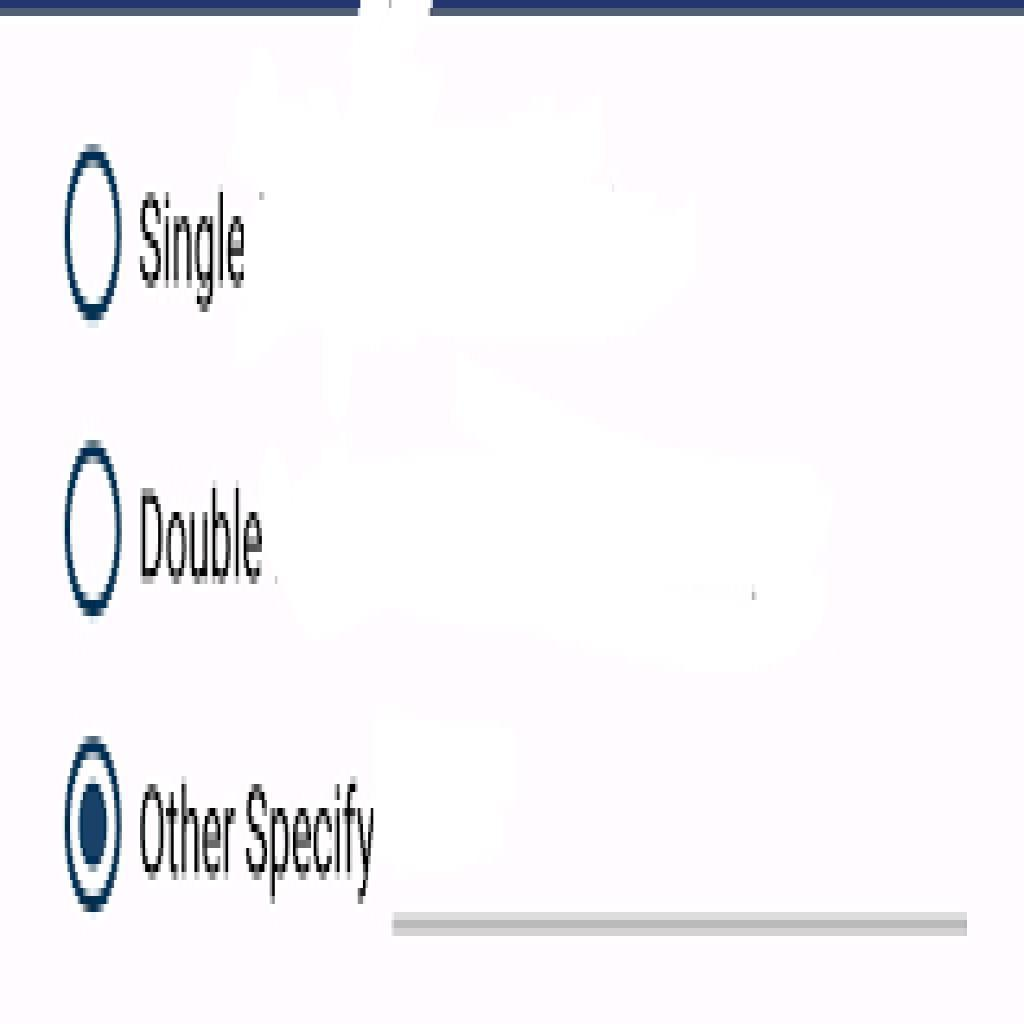label: (135, 775, 381, 906), (130, 185, 251, 312), (136, 476, 264, 593)
radio: (62, 733, 126, 917), (62, 435, 125, 621), (63, 142, 124, 323)
